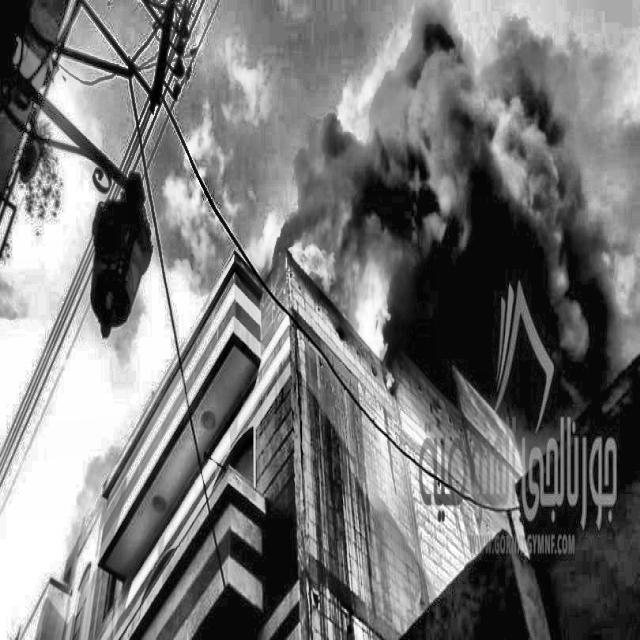fire: (268, 137, 419, 387)
